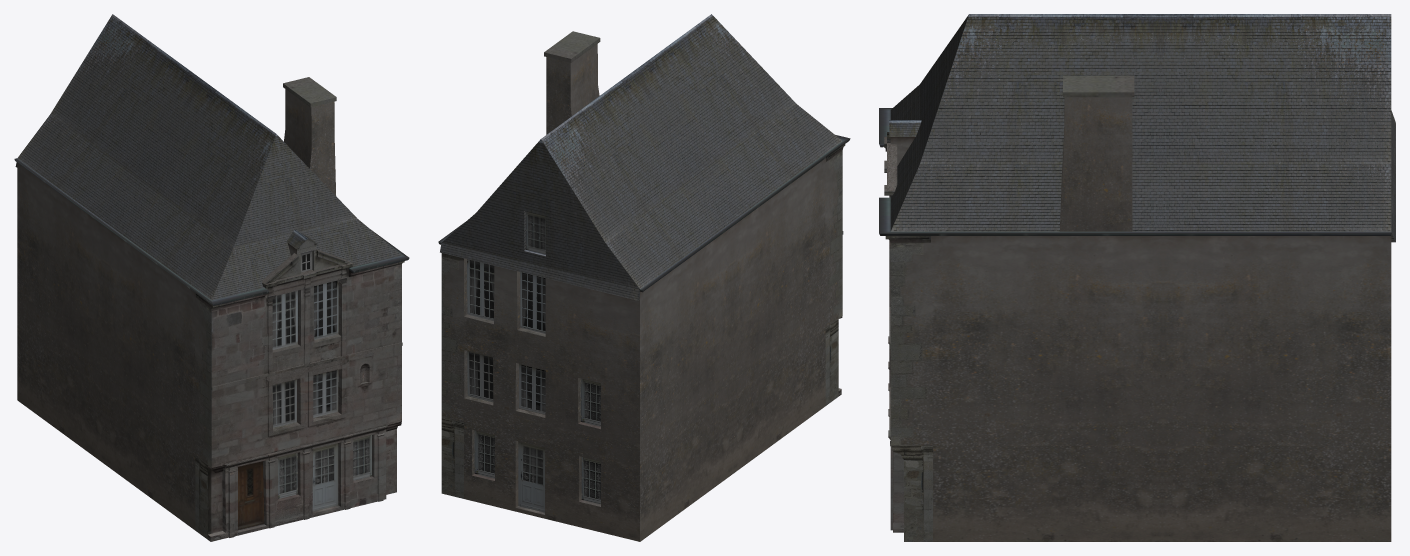
Rendered from moncontour_house_1_france.glb.
The picture shows the model from 3 angles, left to right: view 1: azimuth 30°, elevation 25°; view 2: azimuth 150°, elevation 25°; view 3: azimuth 270°, elevation 25°; orthographic projection. The views are drawn at different scales.
Parts seen in each view (by area): view 1: Moncontour; view 2: Moncontour; view 3: Moncontour.
Part boxes in pixels (x1,y1,x2,y2): Moncontour: (14,14,409,541); Moncontour: (438,14,850,541); Moncontour: (879,14,1395,541).
Bounding box in the file's own units: 6.51 × 11.48 × 11.49.
Materials: 1 (1 with a texture image).
